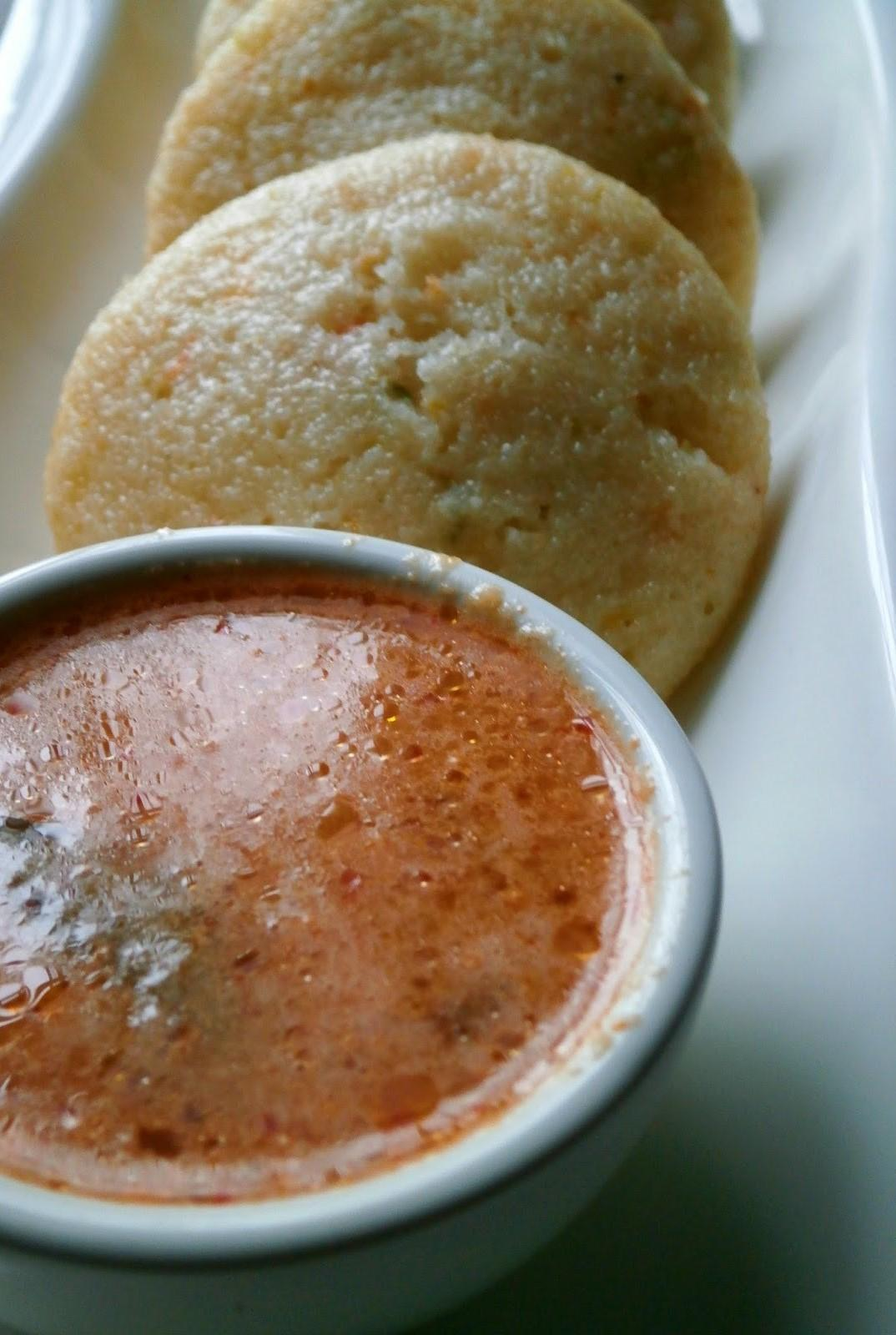Idli: (41, 133, 834, 700), (154, 2, 760, 336)
